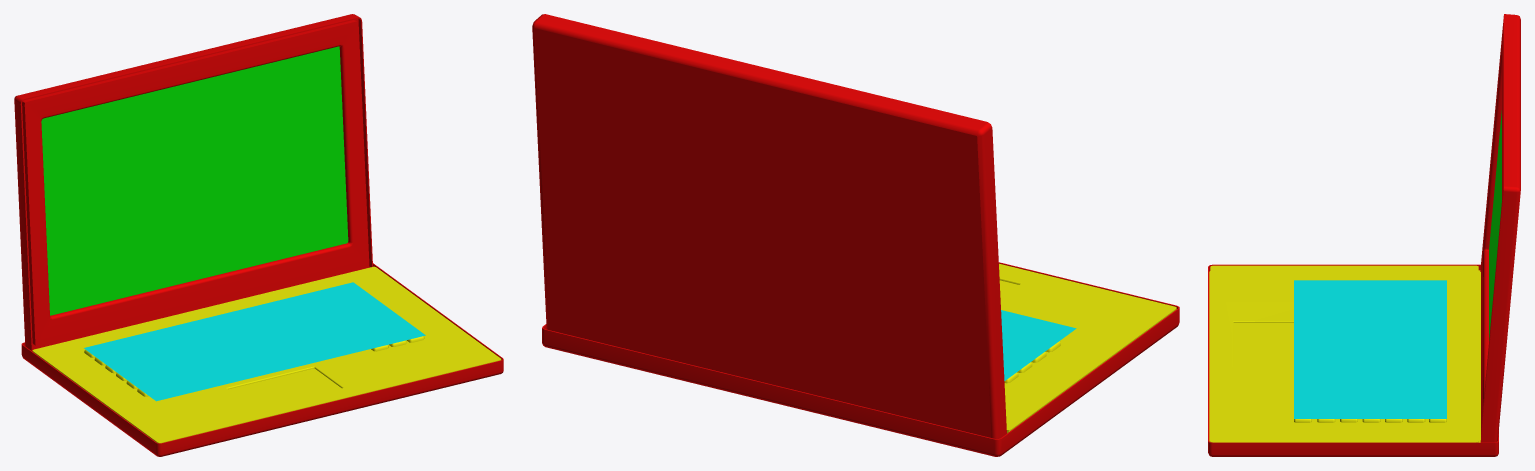
File: thorkea_laptops_grp.fbx
The picture shows the model from 3 angles, left to right: view 1: azimuth 30°, elevation 25°; view 2: azimuth 150°, elevation 25°; view 3: azimuth 270°, elevation 25°; orthographic projection. The views are drawn at different scales.
Visible parts, largest first — view 1: thorkea_laptop_props_america; view 2: thorkea_laptop_props_america; view 3: thorkea_laptop_props_america.
Part boxes in pixels (bbox=[...]): thorkea_laptop_props_america: bbox=[14, 14, 503, 456]; thorkea_laptop_props_america: bbox=[532, 14, 1179, 456]; thorkea_laptop_props_america: bbox=[1208, 14, 1520, 456].
Size of the model in its own units: 37 by 26.05 by 27.4.
